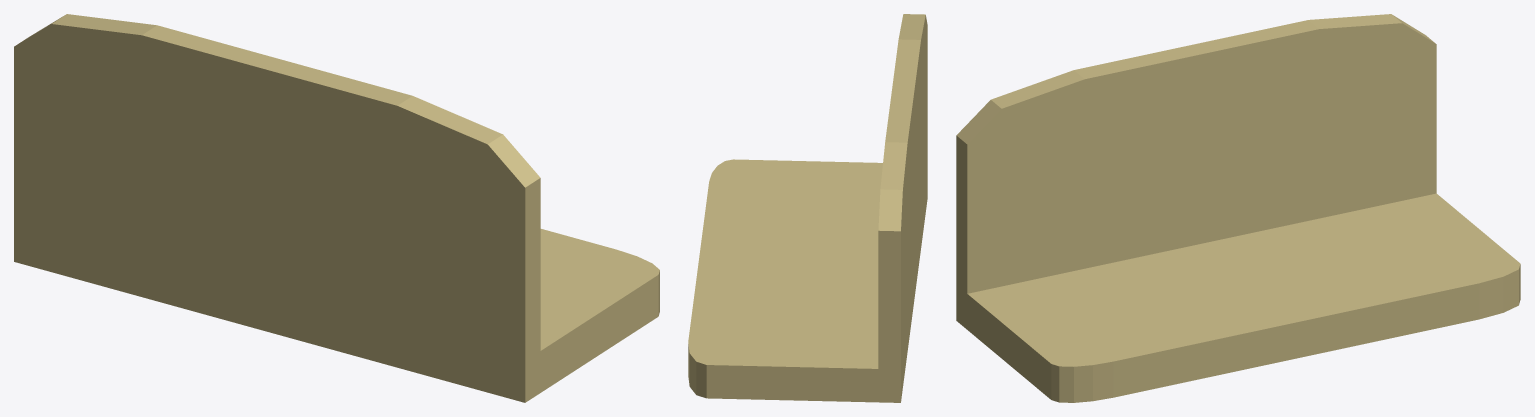
The picture shows the model from 3 angles, left to right: view 1: azimuth 30°, elevation 25°; view 2: azimuth 150°, elevation 25°; view 3: azimuth 270°, elevation 25°; orthographic projection. The views are drawn at different scales.
Visible parts, largest first — view 1: Cube.011; view 2: Cube.011; view 3: Cube.011.
Part boxes in pixels (<box>): Cube.011: <box>14,14,659,402</box>; Cube.011: <box>688,14,927,402</box>; Cube.011: <box>956,14,1520,402</box>.
Size of the model in its own units: 0.5788 by 0.3336 by 0.756.
